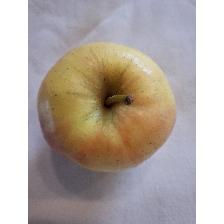Apfel: (34, 38, 180, 174)
